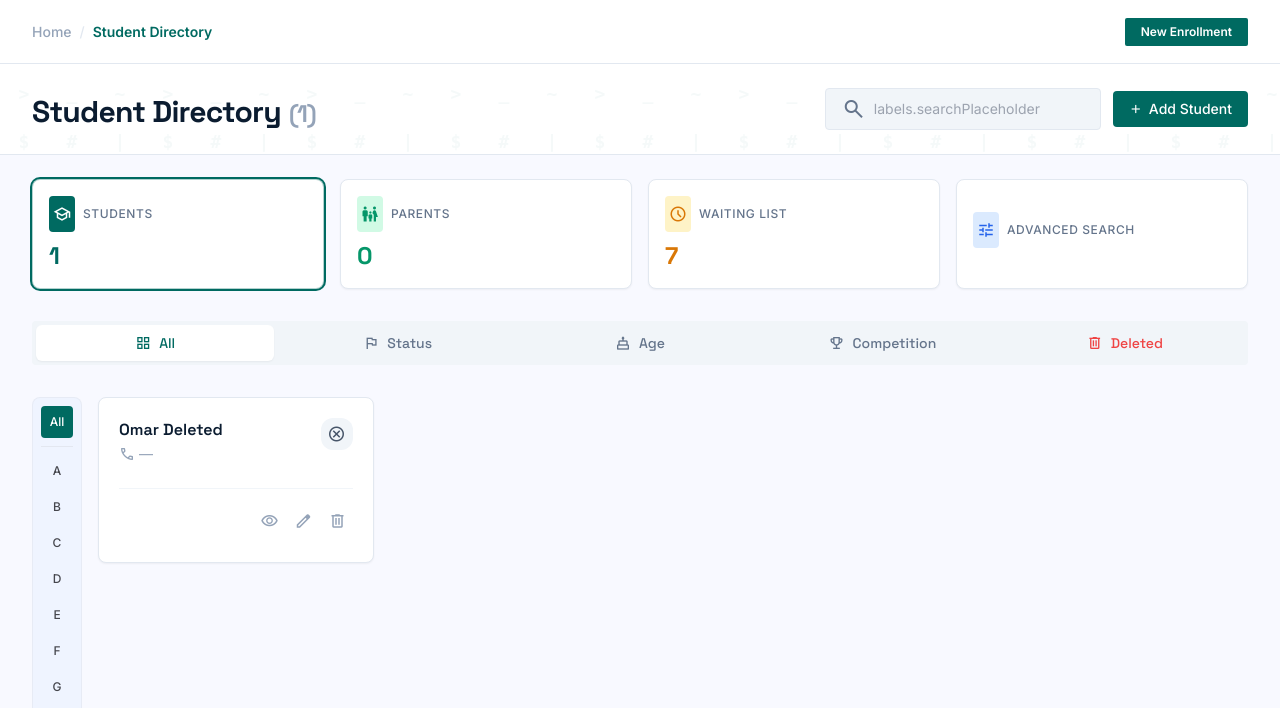
Test case: DirectoryPage delete confirmations › confirms a hard delete from the deleted-students view
This screenshot has width=1280, height=708.
Click the button "Deleted" at (1125, 343), box [1006, 325, 1244, 361]
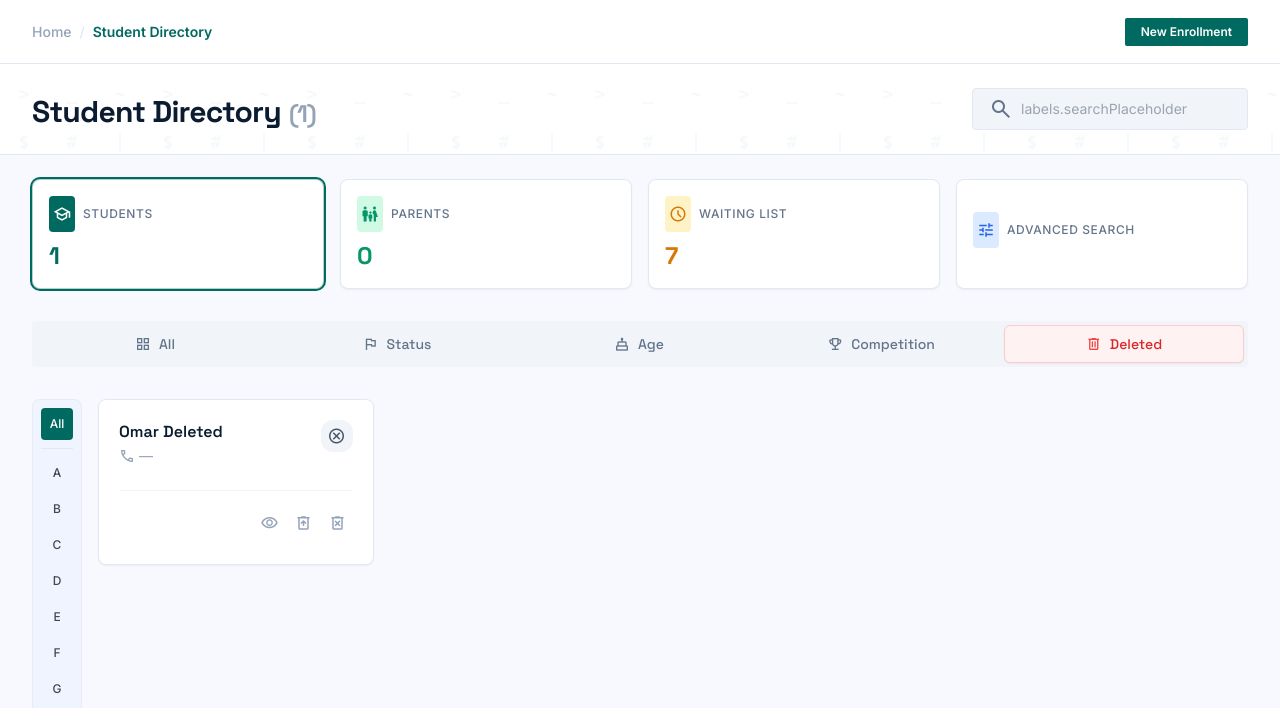
Click the button named "Permanently Delete" at (338, 524), box [322, 503, 352, 544]
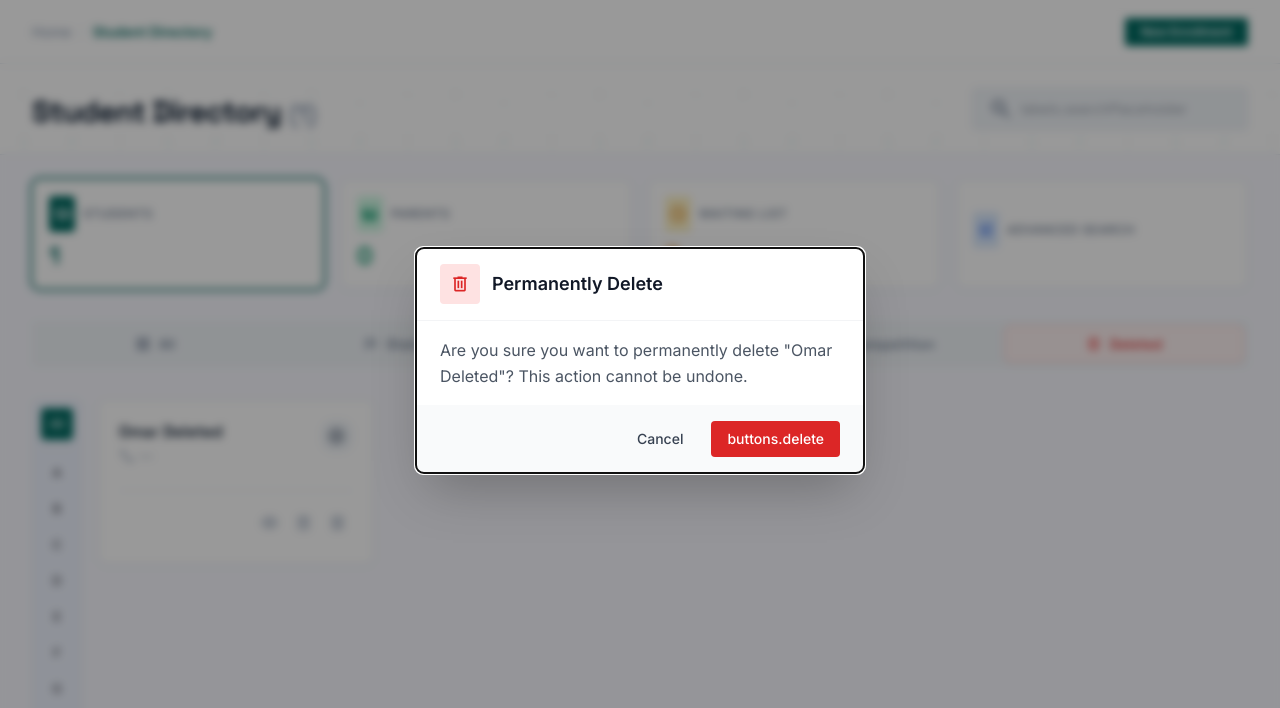
Result: the heading "Permanently Delete" is shown at [492, 270, 663, 298]
Result: the text "permanently delete \"Omar Deleted\"" is shown at [440, 340, 832, 386]
Click the button "buttons.delete" at (776, 438), box [711, 420, 840, 456]
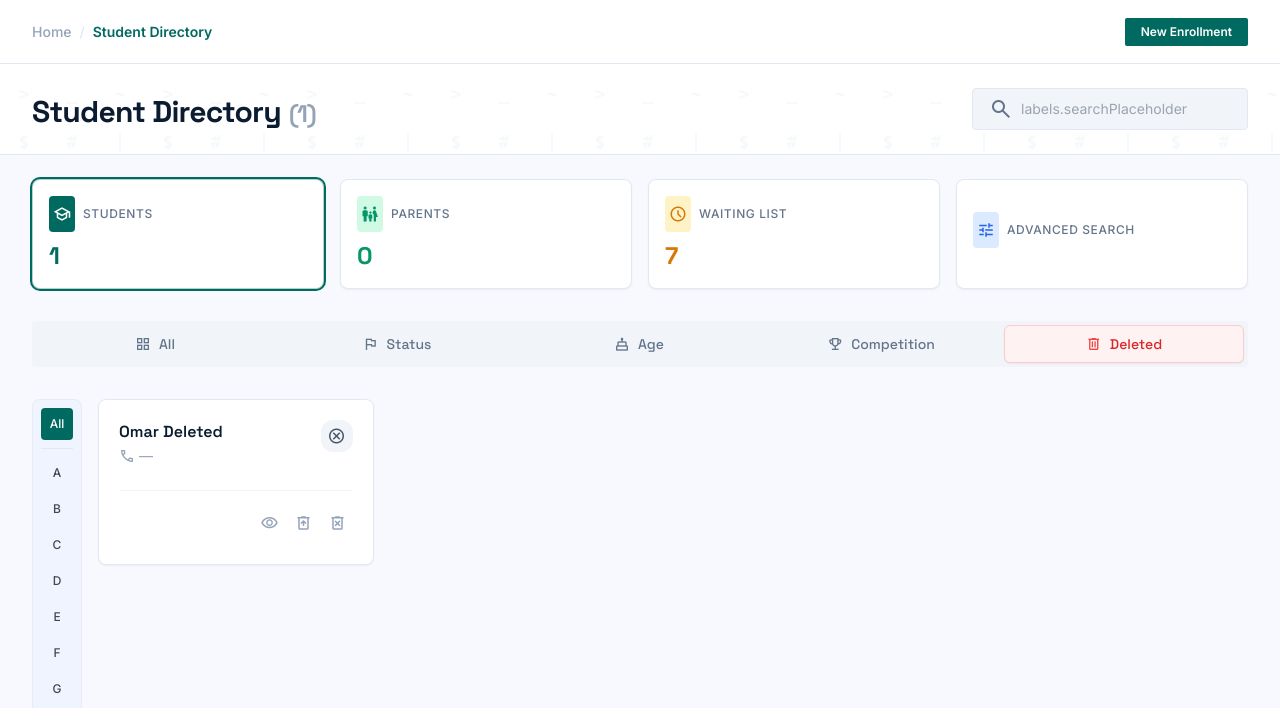
Result: the dialog is gone
